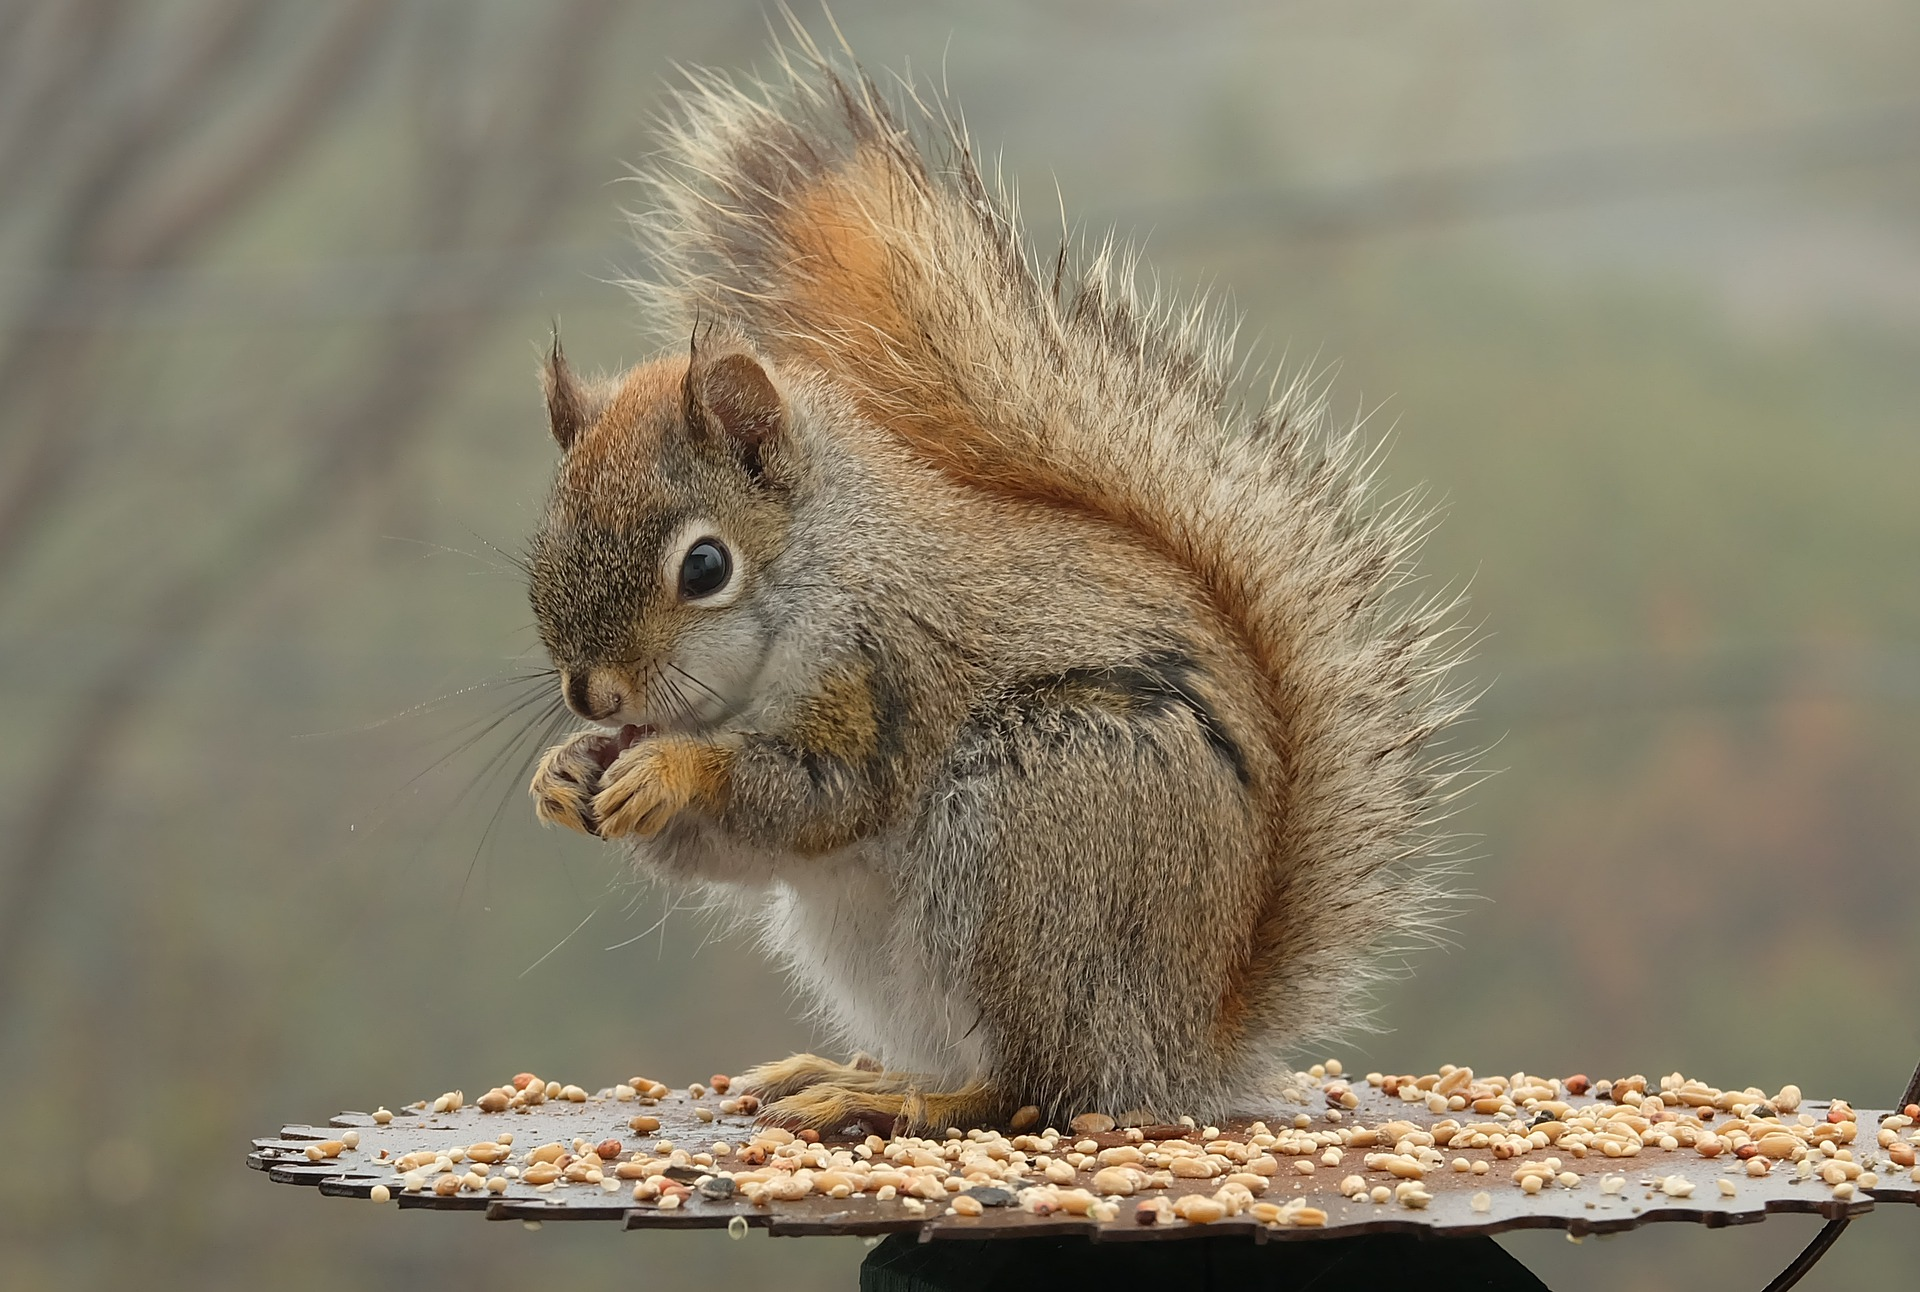squirrel: (520, 40, 1417, 1132)
